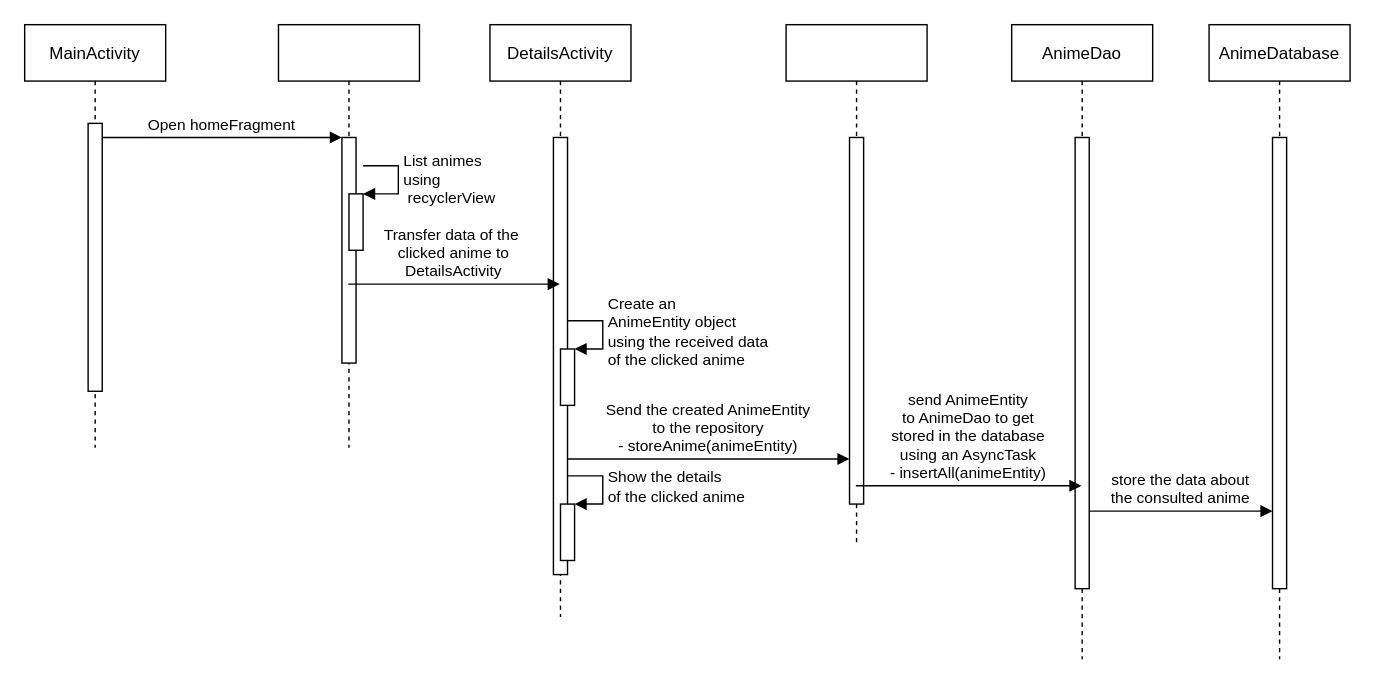
The diagram is 1375 pixels wide and 684 high, and some of its shapes have lost their labels. Here are the shapes that lost their labels. From the top down, the box of each, then its label:
(277, 23, 419, 448): HomeFragment
(785, 23, 927, 546): AnimeRepository
